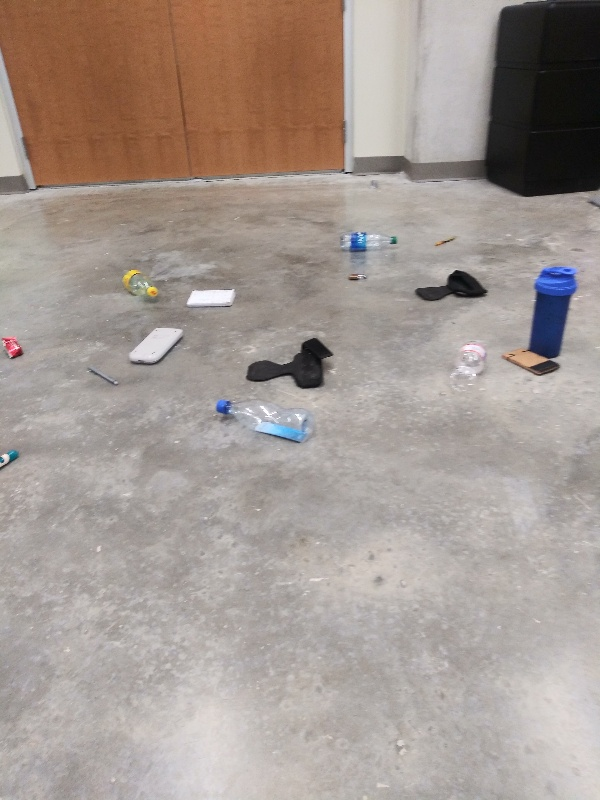bottle: (212, 396, 317, 447), (447, 336, 492, 401), (119, 263, 163, 307), (337, 229, 401, 255)
